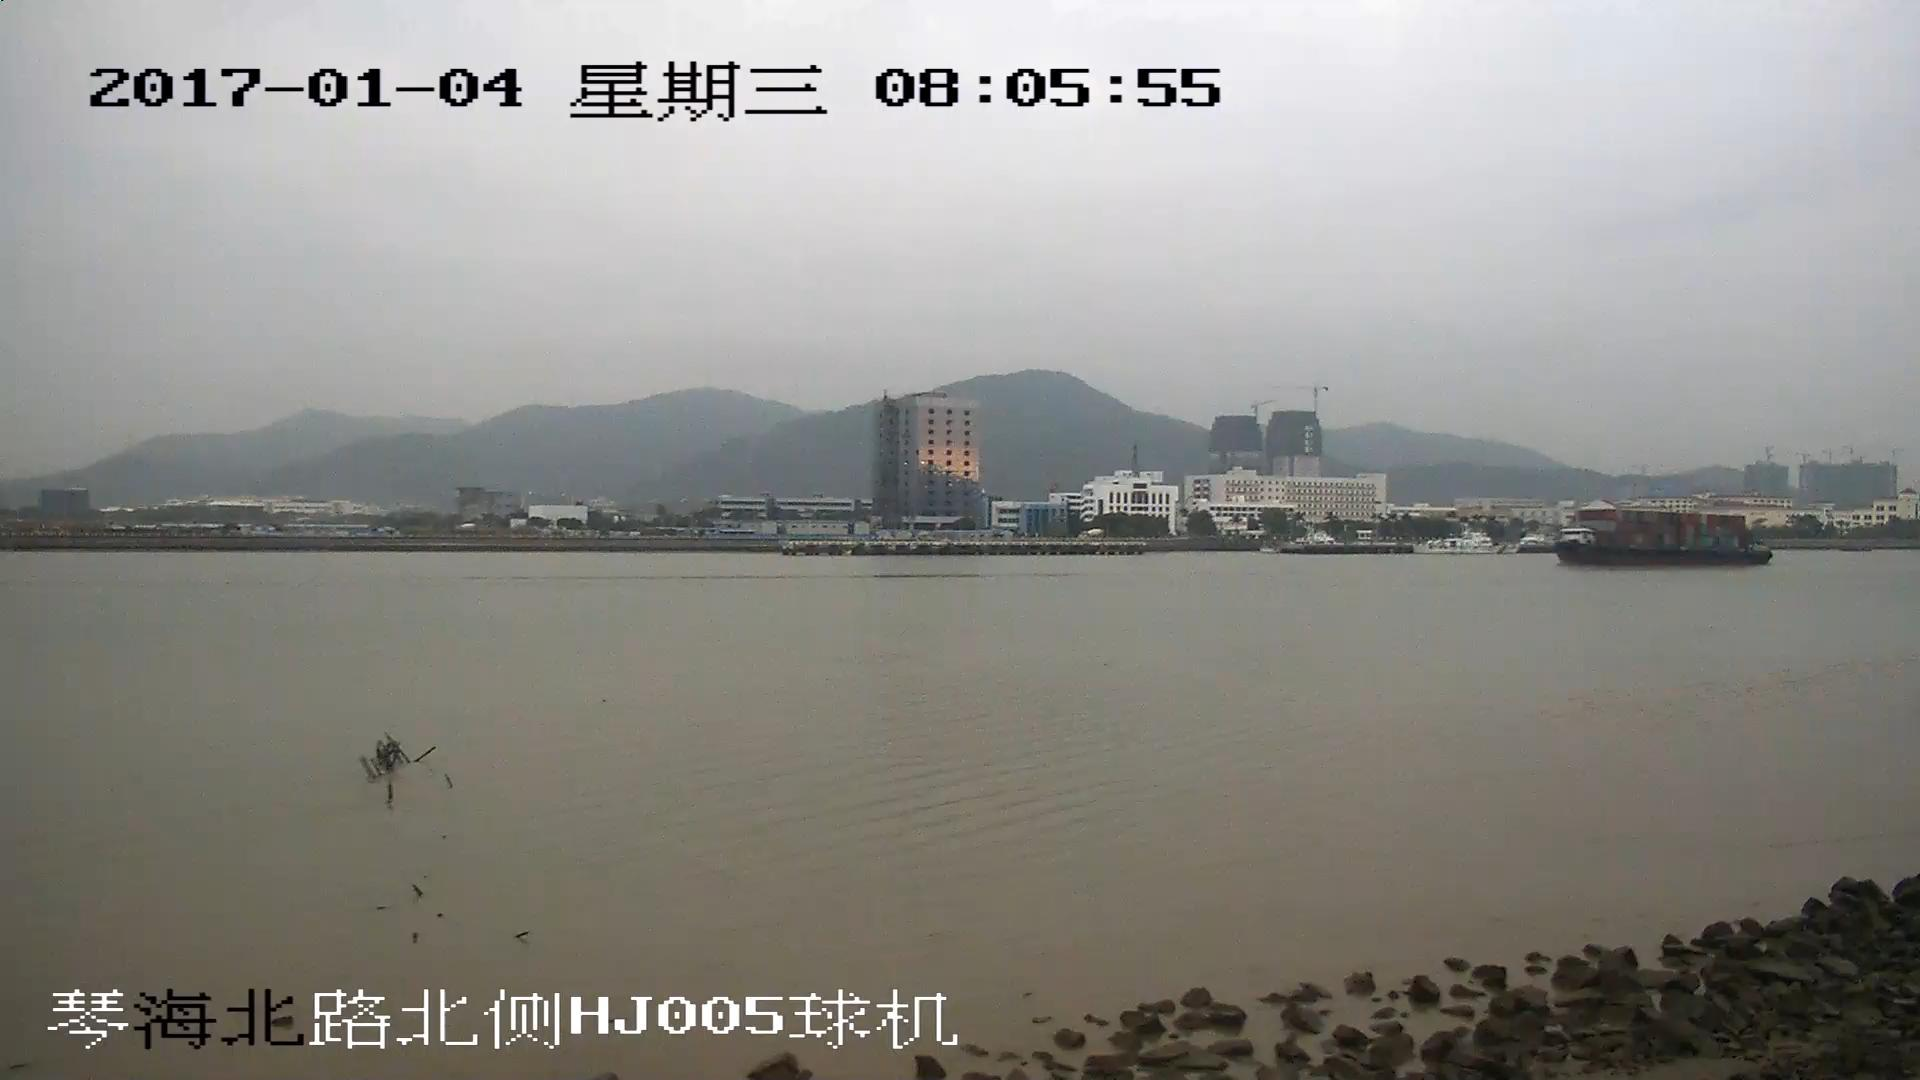Ship: (1555, 508, 1774, 566)
